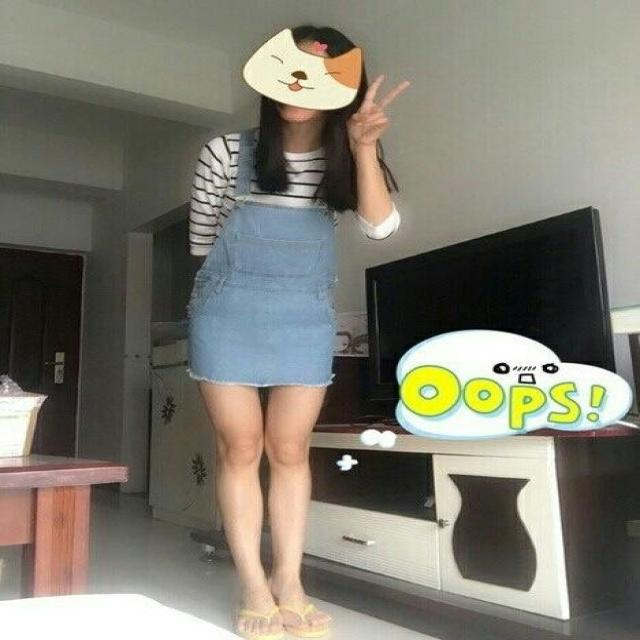long sleeve top: (189, 128, 402, 257)
sling dress: (186, 131, 347, 388)
